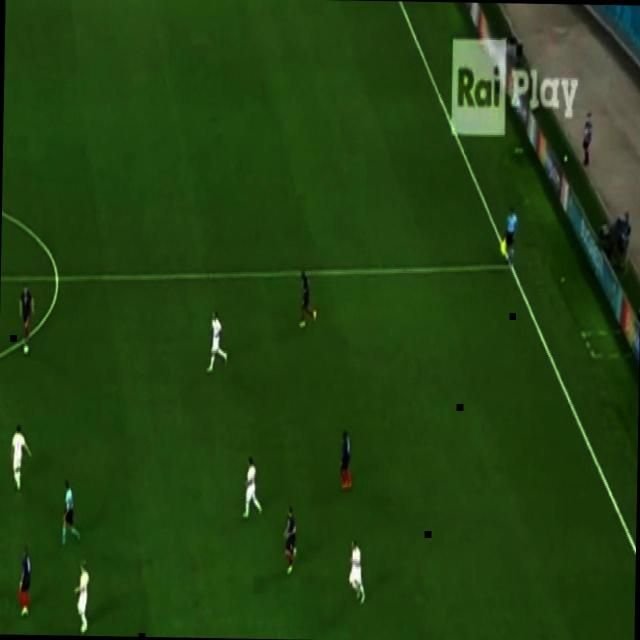ball: (23, 342, 30, 357), (562, 152, 568, 163)
player-white: (8, 420, 34, 494), (204, 308, 230, 376), (70, 556, 92, 636), (61, 476, 84, 548), (240, 453, 264, 522), (345, 538, 368, 608), (296, 265, 320, 331), (16, 542, 34, 620), (281, 503, 299, 578), (16, 281, 36, 341), (336, 427, 354, 493), (503, 204, 519, 270)
